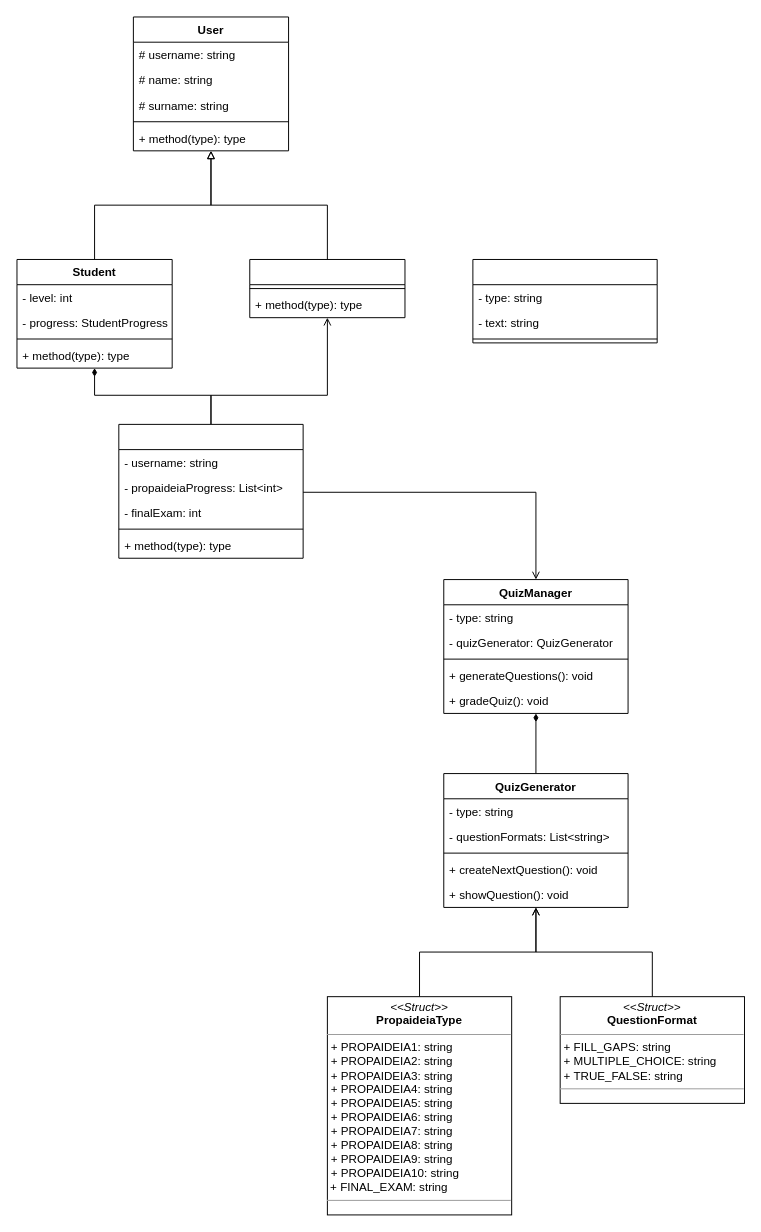
Some shapes in this 761 by 1232 pixel diagram are drawn without their labels. The shapes that lost their labels are listed below. From the top down, each one's box as (x1, y1, x2, y2) in pixels, then its label:
(249, 259, 405, 318): Professor
(472, 259, 657, 343): Chapter
(118, 423, 303, 558): StudentProgress
